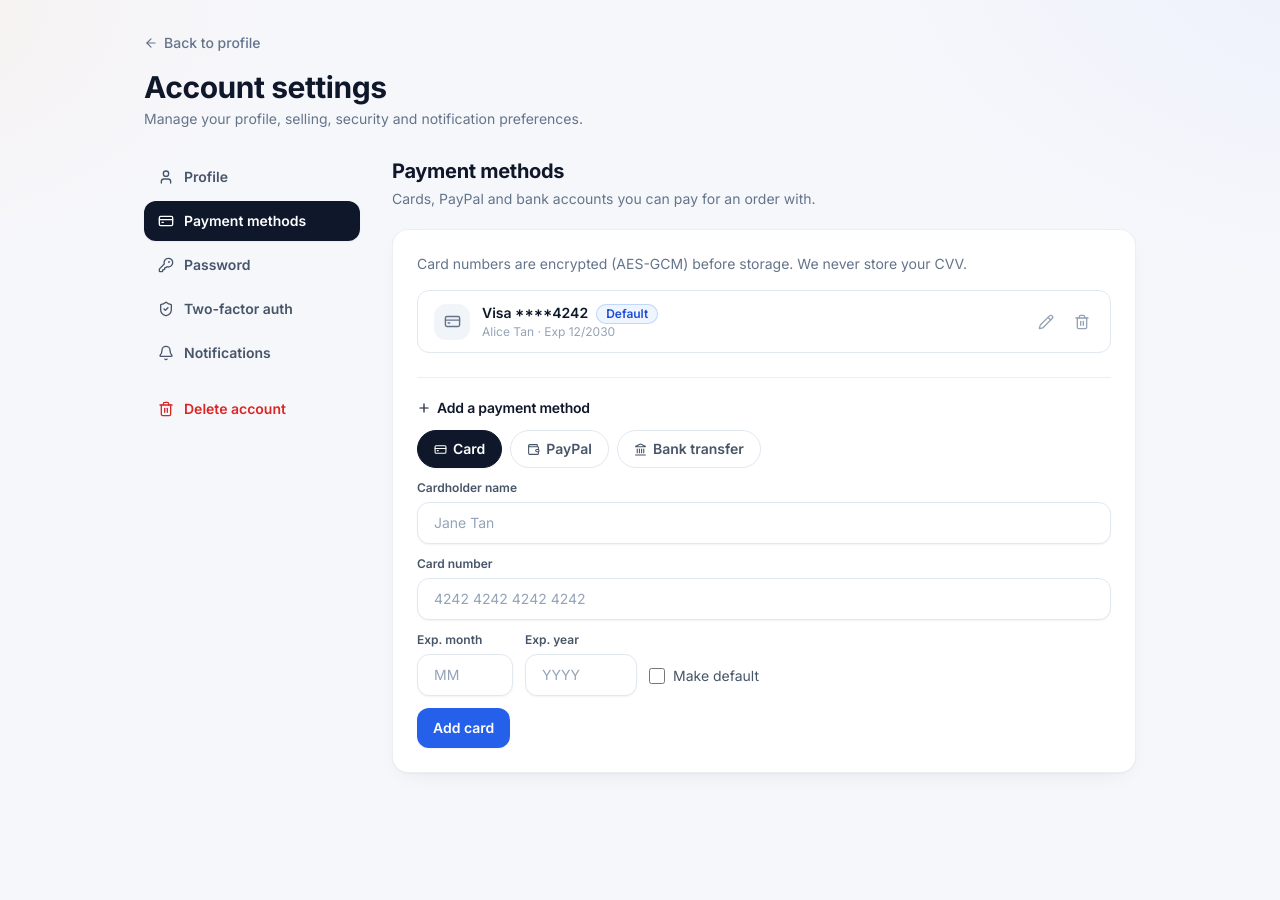
Test: editing a saved payment method › opens a card editor pre-filled with the stored holder and expiry
Click the button named "Edit Visa".
click(1046, 322)  # box [1034, 310, 1058, 334]
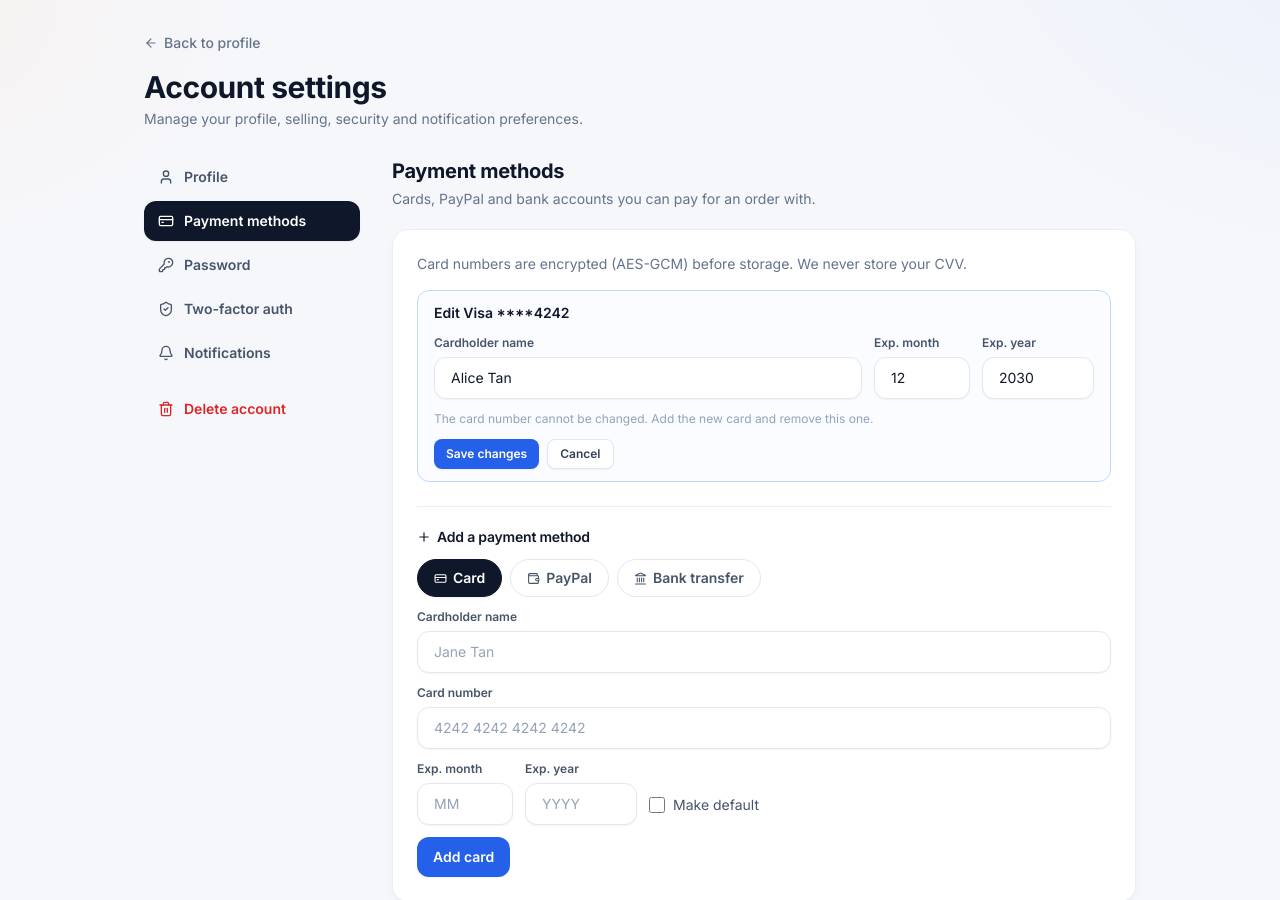
Check: the field labelled "Cardholder name" below "Edit" holds "Alice Tan", box [434, 357, 862, 399]
Check: the 1st number field labelled "Exp. month" holds "12", box [874, 357, 970, 399]
Check: the 1st number field labelled "Exp. year" holds "2030", box [982, 357, 1094, 399]
